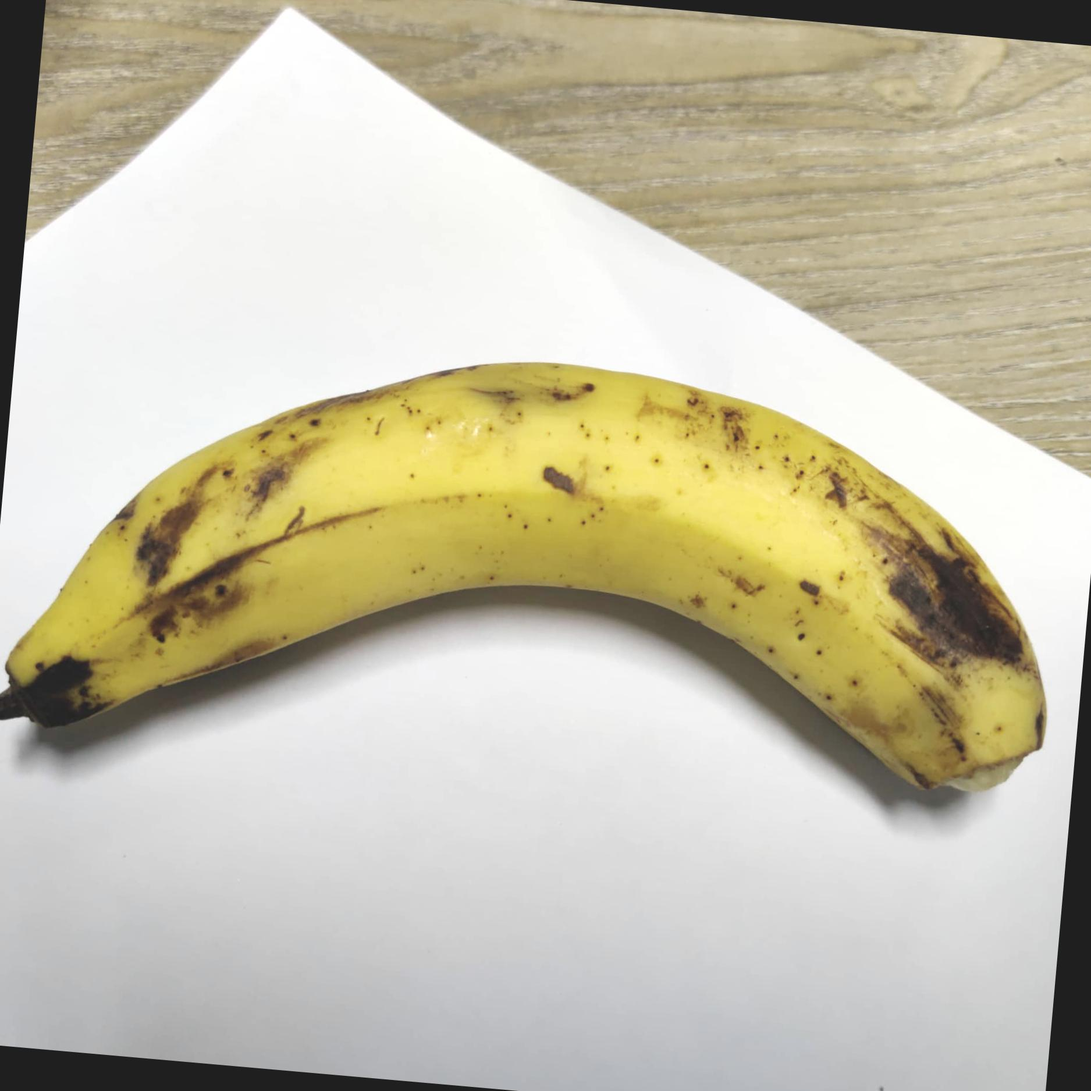Banana Ripe: (0, 297, 1091, 970)
